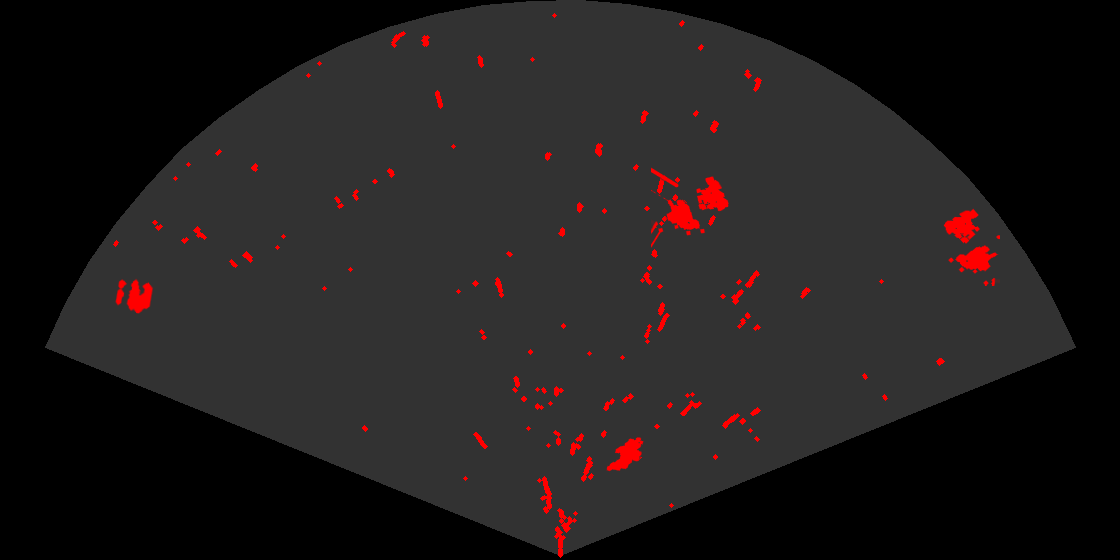AUV: (605, 436, 645, 473)
ball: (114, 277, 155, 315)
cage: (651, 166, 730, 249), (942, 207, 1000, 286)
